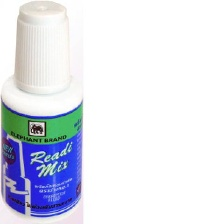correction_fluid: (0, 0, 85, 224)
